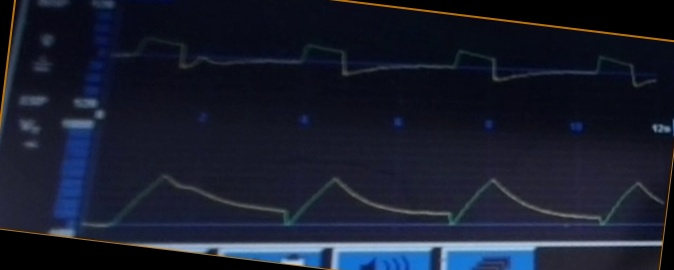Premature_cycling Flow: (112, 33, 657, 107)
Premature_cycling Volume: (89, 170, 661, 238)
